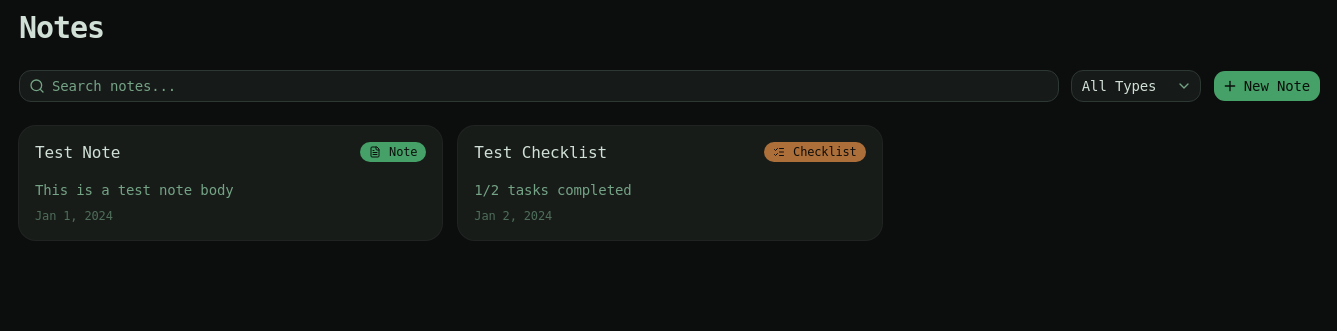
Test: notes page — empty state › shows "no matching" state when filter excludes everything
// Type a search that won't match anything
In the field with placeholder "Search notes...": [539, 86] box [19,70,1059,102], type "zzzzz_nonexistent"
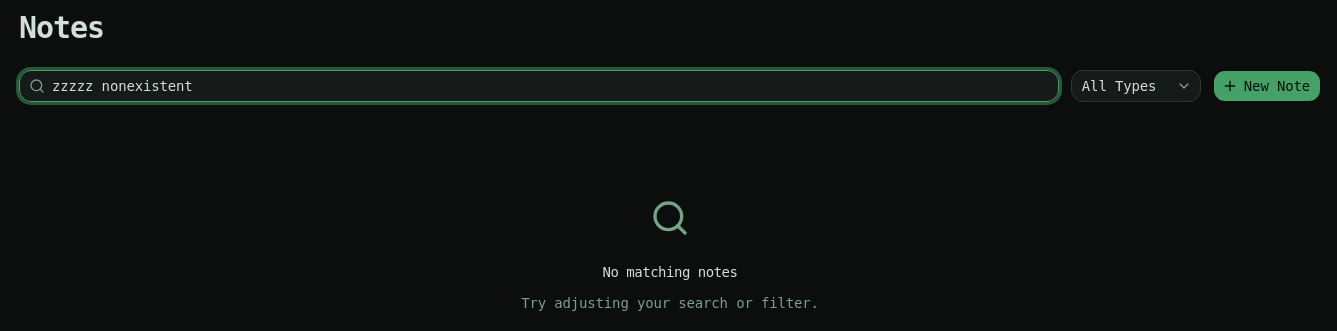
Expected: the text "No matching notes" is shown, [602,262,738,282]
Expected: the text "Try adjusting your search or filter." is shown, [521,292,819,315]
